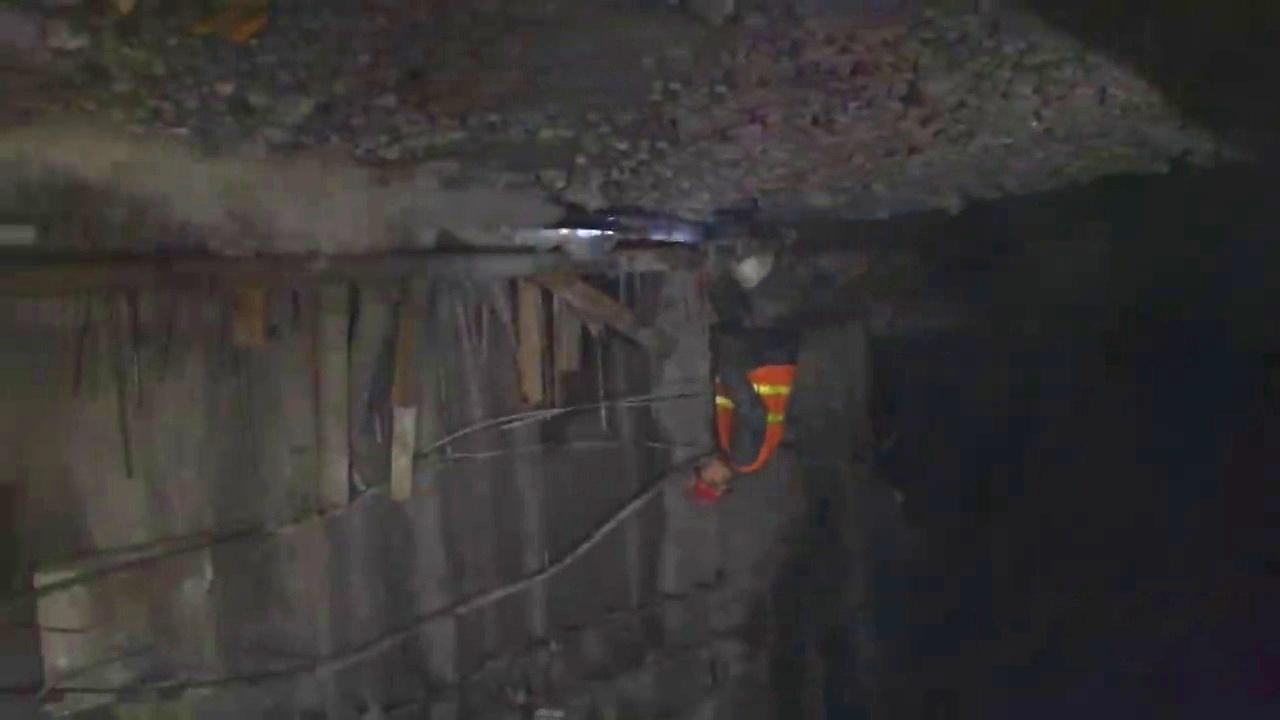helmet: (682, 453, 735, 509)
